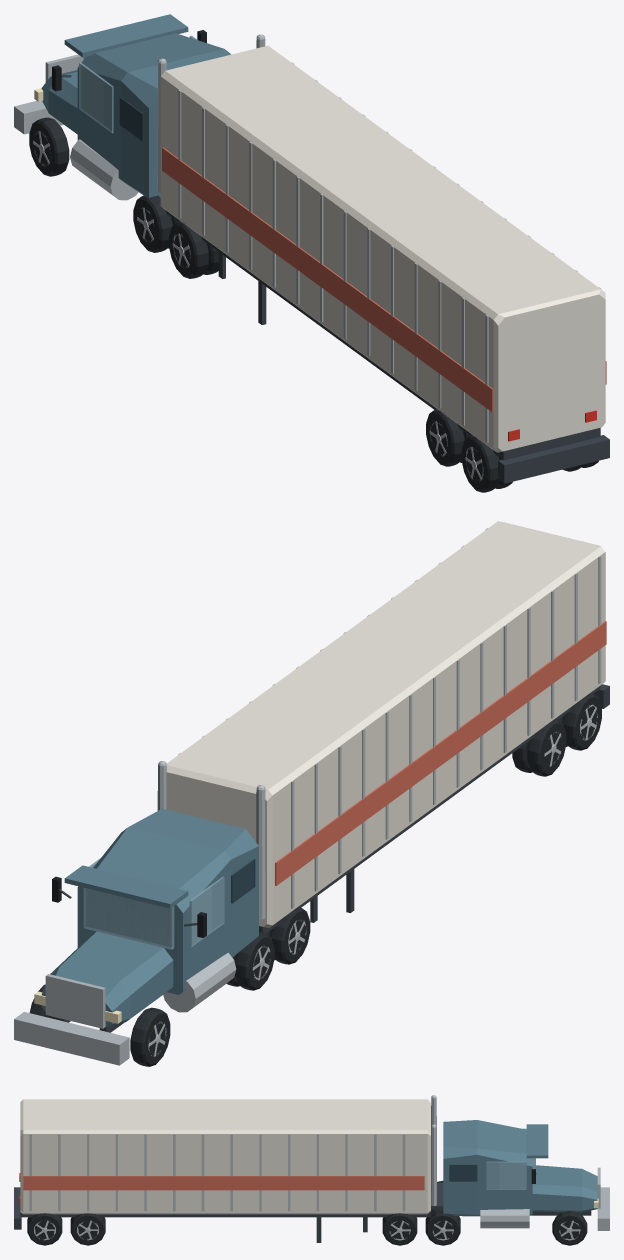
File: LAND_07.obj
3 views of the same model, one above another, from view 1: azimuth 30°, elevation 25°; view 2: azimuth 150°, elevation 25°; view 3: azimuth 270°, elevation 25° (orthographic). The views are drawn at different scales.
Parts seen in each view (by area): view 1: trailer, cab, trailer_stripe, trailer_ribs, rear_bumper, windows, visor, wheel_drive2_L, trailer_chassis, wheel_steer_L, wheel_drive1_L, fuel_tank (+5 smaller); view 2: trailer, cab, trailer_stripe, hood, windows, trailer_ribs, bumper, grille, visor, wheel_trailer1_L, wheel_steer_L, fuel_tank (+5 smaller); view 3: trailer, cab, trailer_stripe, trailer_ribs, hood, windows, trailer_chassis, wheel_drive1_R, wheel_steer_R, fuel_tank, wheel_drive2_R, wheel_trailer1_R (+7 smaller).
Boxes of the visible parts, x1,y1,x2,y2 form: trailer: (160, 45, 605, 452); cab: (77, 33, 230, 197); trailer_stripe: (162, 147, 606, 412); trailer_ribs: (178, 62, 600, 443); rear_bumper: (498, 435, 609, 483); windows: (79, 35, 197, 141); visor: (64, 14, 188, 57); wheel_drive2_L: (169, 221, 218, 278); trailer_chassis: (165, 210, 600, 460); wheel_steer_L: (29, 117, 69, 176); wheel_drive1_L: (133, 195, 177, 252); fuel_tank: (70, 139, 138, 200); trailer: (166, 521, 605, 927); cab: (77, 808, 258, 994); trailer_stripe: (275, 621, 606, 885); hood: (41, 931, 173, 1027); windows: (83, 858, 255, 949); trailer_ribs: (178, 528, 601, 908); bumper: (14, 1012, 129, 1065); grille: (45, 974, 105, 1028); visor: (64, 865, 188, 908); wheel_trailer1_L: (512, 719, 566, 776); wheel_steer_L: (130, 1007, 170, 1066); fuel_tank: (163, 952, 236, 1012); trailer: (20, 1099, 430, 1214); cab: (443, 1120, 532, 1216); trailer_stripe: (23, 1176, 424, 1190); trailer_ribs: (29, 1134, 405, 1211); hood: (532, 1165, 597, 1212); windows: (449, 1128, 535, 1189); trailer_chassis: (20, 1212, 430, 1217); wheel_drive1_R: (425, 1209, 460, 1245); wheel_steer_R: (552, 1210, 587, 1245); fuel_tank: (480, 1209, 529, 1228); wheel_drive2_R: (382, 1213, 417, 1245); wheel_trailer1_R: (70, 1213, 105, 1245).
Bounding box in the file's own units: 3.44 × 4.27 × 19.3.
